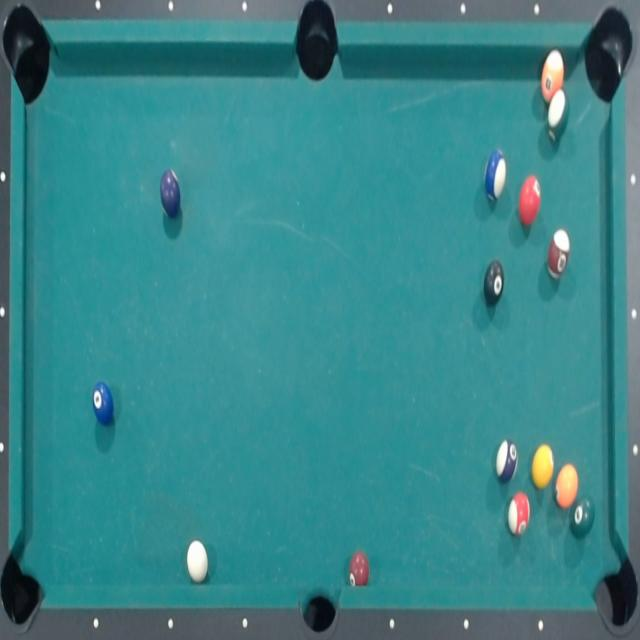black_8ball: (483, 260, 505, 305)
blue_solid: (91, 380, 116, 428)
blue_stripe: (484, 149, 507, 200)
cue_ball: (186, 538, 209, 584)
green_solid: (571, 497, 597, 538)
green_stripe: (548, 90, 570, 142)
maroon_solid: (348, 550, 370, 588)
maroon_stripe: (547, 228, 571, 282)
orange_solid: (555, 463, 579, 509)
orange_stripe: (541, 50, 564, 100)
playr: (159, 166, 184, 220)
purple_solid: (495, 437, 519, 484)
purple_stripe: (518, 175, 541, 226)
red_solid: (507, 491, 530, 538)
red_stripe: (531, 444, 555, 492)
